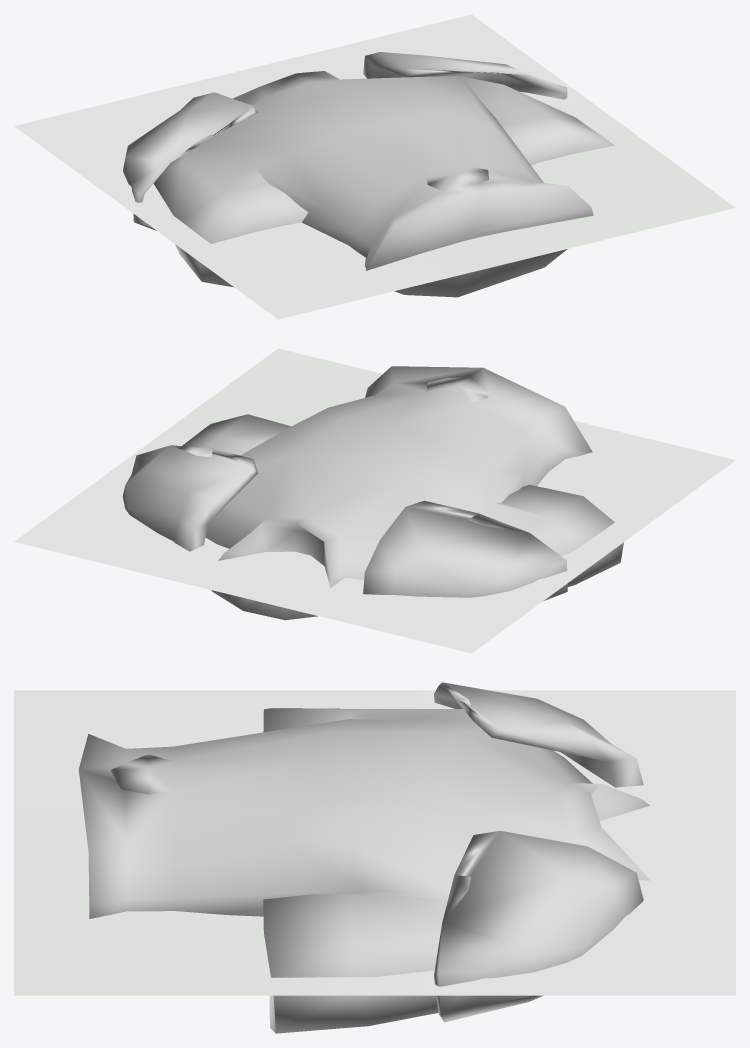
File: ITAR_KNIGHT_ARMOR.glb
3 views of the same model, one above another, from view 1: azimuth 30°, elevation 25°; view 2: azimuth 150°, elevation 25°; view 3: azimuth 270°, elevation 25° (orthographic). The views are drawn at different scales.
Visible parts, largest first — view 1: Mesh; view 2: Mesh; view 3: Mesh.
Boxes of the visible parts, left/top/right/bottom form: Mesh: left=14, top=14, right=735, bottom=319; Mesh: left=14, top=348, right=735, bottom=653; Mesh: left=14, top=682, right=735, bottom=1033.
Size of the model in its own units: 0.7751 by 0.1888 by 0.7751.
Materials: 2 (1 with a texture image).
